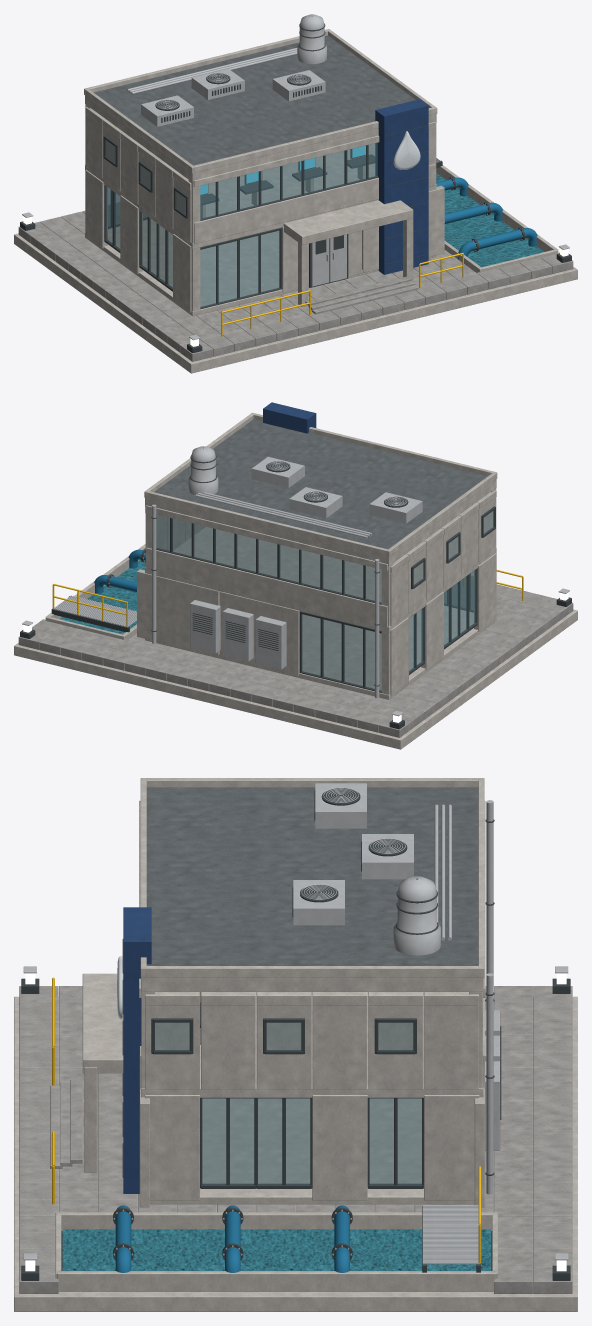
The model's file is control_alcantarillado.fbx.
3 views of the same model, one above another, from view 1: azimuth 30°, elevation 25°; view 2: azimuth 150°, elevation 25°; view 3: azimuth 270°, elevation 25° (orthographic). The views are drawn at different scales.
Visible parts, largest first — view 1: Edificio de operación · Prefabricado caliza, Solar · Loseta mineral, Edificio de operación · Membrana bituminosa, Edificio de operación · Cristal de control, Solar · Prefabricado caliza, Torre y emblema · Chapa azul ultramar, Equipos de cubierta · Inox cepillado, Edificio de operación · Perfilería antracita, Vestíbulo y acceso · Prefabricado caliza, Canal de inspección · Agua de clarificación, Canal de inspección · Tubería esmaltada, Vestíbulo y acceso · Loseta mineral (+6 smaller); view 2: Edificio de operación · Prefabricado caliza, Solar · Loseta mineral, Edificio de operación · Membrana bituminosa, Edificio de operación · Cristal de control, Solar · Prefabricado caliza, Equipos de cubierta · Inox cepillado, Instalaciones posteriores · Inox cepillado, Edificio de operación · Perfilería antracita, Canal de inspección · Inox cepillado, Canal de inspección · Agua de clarificación, Torre y emblema · Chapa azul ultramar, Canal de inspección · Prefabricado caliza (+5 smaller); view 3: Edificio de operación · Prefabricado caliza, Edificio de operación · Membrana bituminosa, Solar · Loseta mineral, Edificio de operación · Cristal de control, Canal de inspección · Prefabricado caliza, Solar · Prefabricado caliza, Canal de inspección · Agua de clarificación, Equipos de cubierta · Inox cepillado, Torre y emblema · Chapa azul ultramar, Vestíbulo y acceso · Prefabricado caliza, Edificio de operación · Perfilería antracita, Instalaciones posteriores · Inox cepillado (+6 smaller).
Part boxes in pixels (box(x1,y1,x2,y2)): Edificio de operación · Prefabricado caliza: box(84, 29, 444, 316); Solar · Loseta mineral: box(18, 202, 573, 361); Edificio de operación · Membrana bituminosa: box(94, 35, 415, 165); Edificio de operación · Cristal de control: box(105, 140, 377, 307); Solar · Prefabricado caliza: box(14, 233, 577, 373); Torre y emblema · Chapa azul ultramar: box(375, 99, 428, 274); Equipos de cubierta · Inox cepillado: box(127, 14, 326, 126); Edificio de operación · Perfilería antracita: box(103, 136, 378, 309); Vestíbulo y acceso · Prefabricado caliza: box(283, 200, 413, 306); Canal de inspección · Agua de clarificación: box(436, 173, 543, 267); Canal de inspección · Tubería esmaltada: box(436, 177, 537, 259); Vestíbulo y acceso · Loseta mineral: box(305, 276, 418, 314); Edificio de operación · Prefabricado caliza: box(137, 412, 497, 699); Solar · Loseta mineral: box(18, 577, 573, 737); Edificio de operación · Membrana bituminosa: box(154, 419, 487, 549); Edificio de operación · Cristal de control: box(156, 511, 493, 690); Solar · Prefabricado caliza: box(14, 609, 577, 749); Equipos de cubierta · Inox cepillado: box(188, 446, 422, 538); Instalaciones posteriores · Inox cepillado: box(152, 504, 379, 697); Edificio de operación · Perfilería antracita: box(156, 506, 495, 692); Canal de inspección · Inox cepillado: box(53, 553, 144, 627); Canal de inspección · Agua de clarificación: box(59, 560, 145, 634); Torre y emblema · Chapa azul ultramar: box(263, 402, 316, 433); Canal de inspección · Prefabricado caliza: box(45, 544, 145, 639); Edificio de operación · Prefabricado caliza: box(139, 778, 485, 1207); Edificio de operación · Membrana bituminosa: box(146, 787, 478, 965); Solar · Loseta mineral: box(19, 986, 572, 1293); Edificio de operación · Cristal de control: box(155, 1023, 421, 1184); Canal de inspección · Prefabricado caliza: box(55, 1212, 497, 1291); Solar · Prefabricado caliza: box(14, 996, 577, 1311); Canal de inspección · Agua de clarificación: box(62, 1229, 490, 1270); Equipos de cubierta · Inox cepillado: box(293, 783, 451, 955); Torre y emblema · Chapa azul ultramar: box(123, 907, 151, 1193); Vestíbulo y acceso · Prefabricado caliza: box(82, 973, 123, 1172); Edificio de operación · Perfilería antracita: box(151, 1002, 423, 1188); Instalaciones posteriores · Inox cepillado: box(485, 800, 500, 1194).
Size of the model in its own units: 12.6 by 6.36 by 10.
14 materials, 6 textured.
